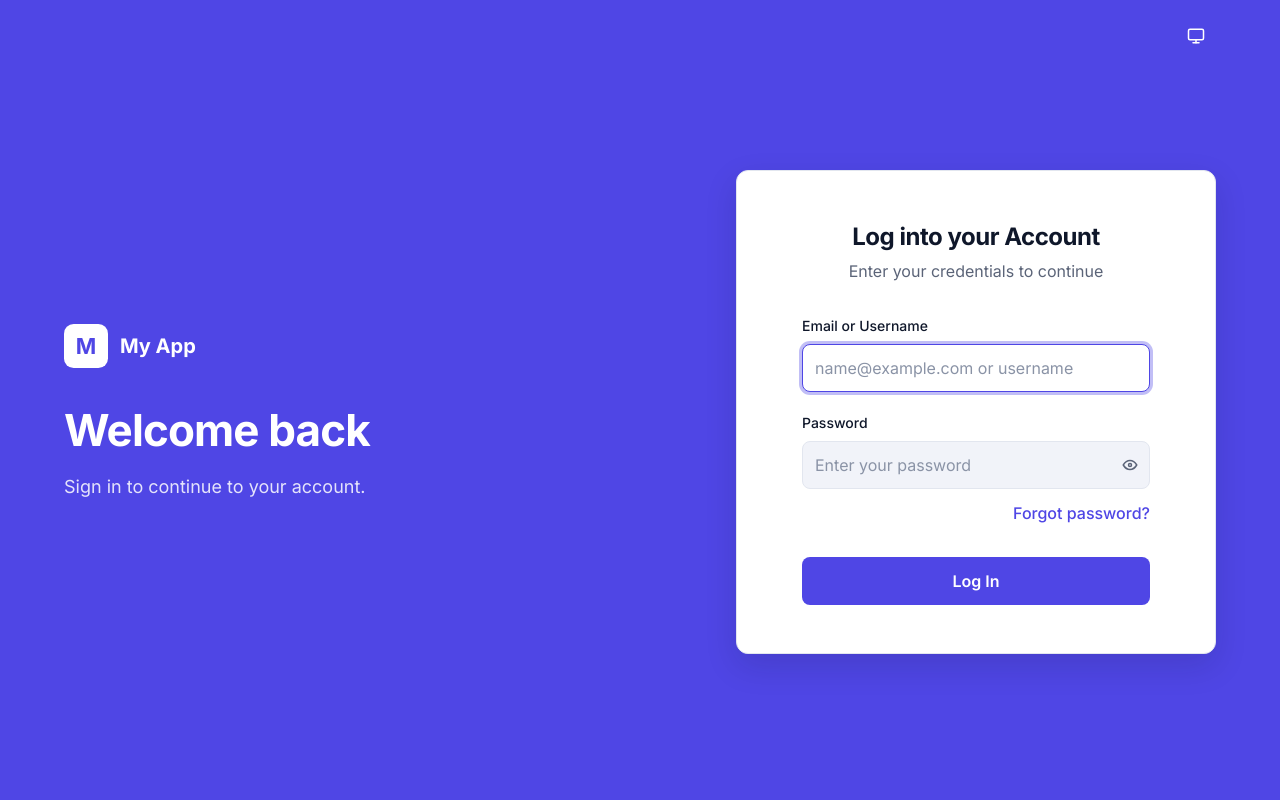
Test: forgot password › the login page links to it
This screenshot has width=1280, height=800.
Expected: the heading "Log into your Account" is shown, 852,222 -> 1100,251
Click the link "Forgot password?".
click(1082, 513)  # box 1013,501 -> 1150,525
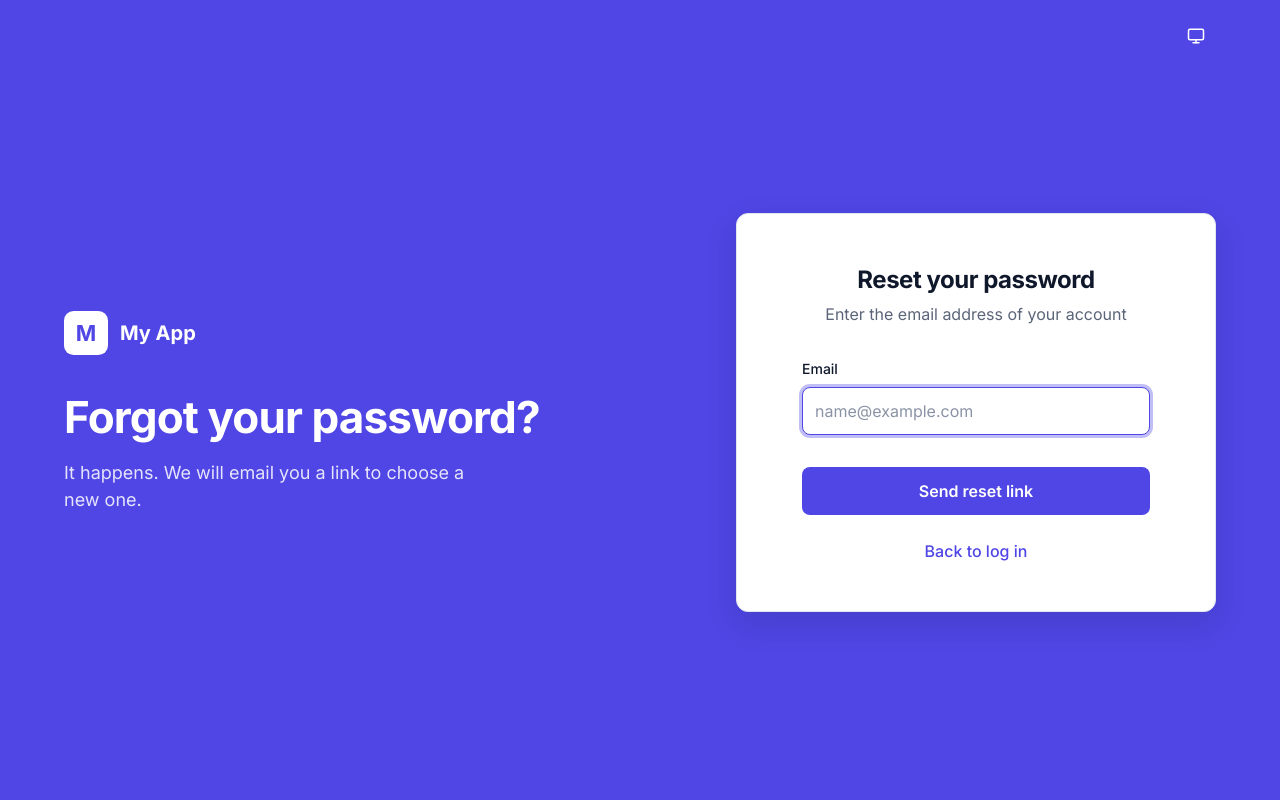
Expected: the heading "Reset your password" is shown, 857,264 -> 1095,294
